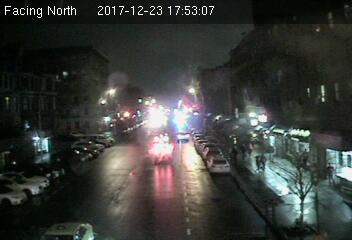car: (205, 156, 230, 174)
